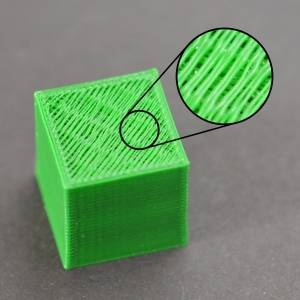3dptoplayergaps: (63, 101, 119, 151)
3dpunderextrusion: (193, 48, 259, 109), (73, 157, 122, 172), (143, 155, 170, 163)
